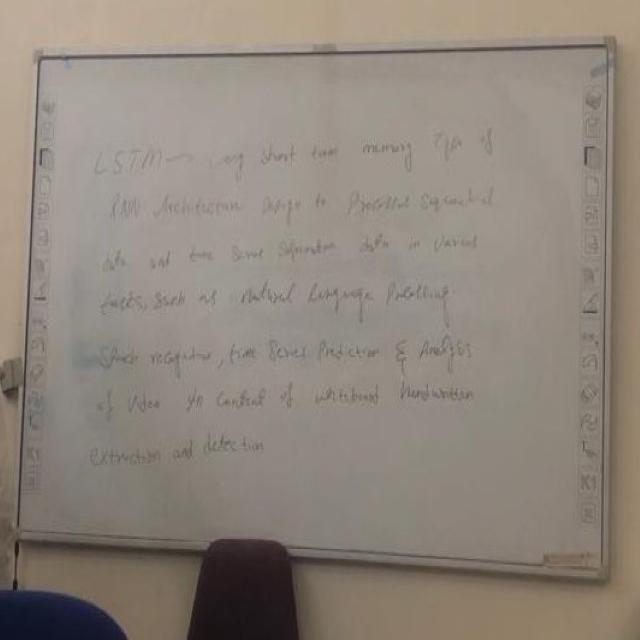White-board: (21, 45, 612, 575)
